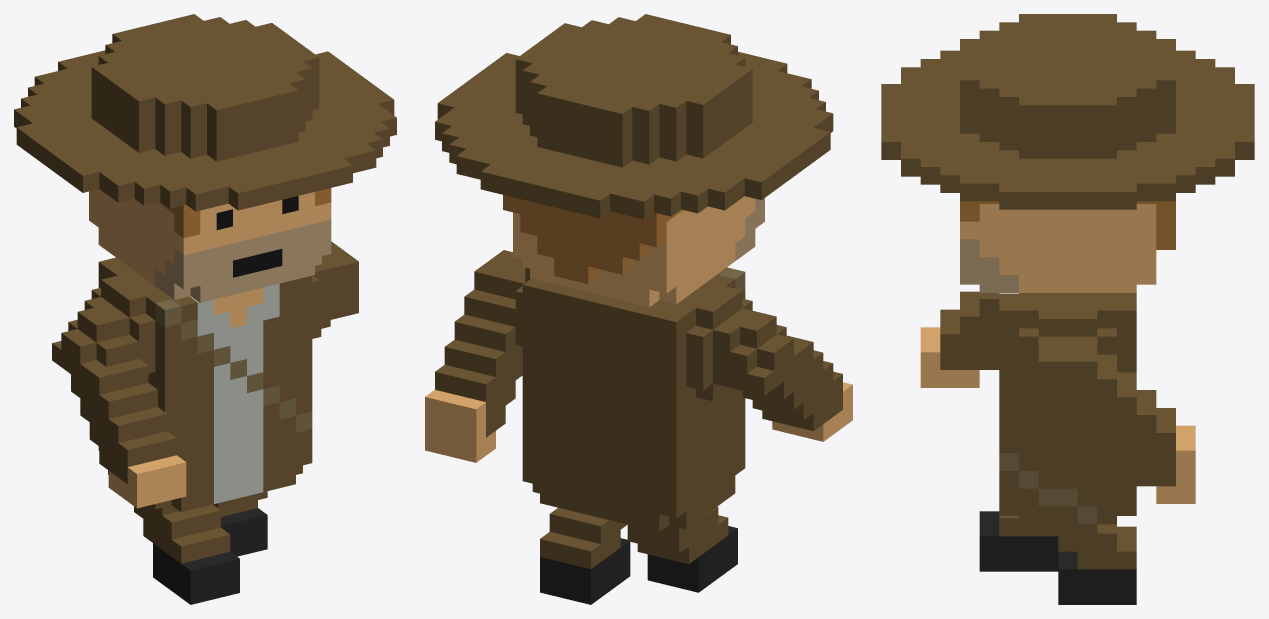
File: indi.obj
The picture shows the model from 3 angles, left to right: view 1: azimuth 30°, elevation 25°; view 2: azimuth 150°, elevation 25°; view 3: azimuth 270°, elevation 25°; orthographic projection. The views are drawn at different scales.
Size of the model in its own units: 19 by 29 by 19.
Materials: 1 (1 with a texture image).
